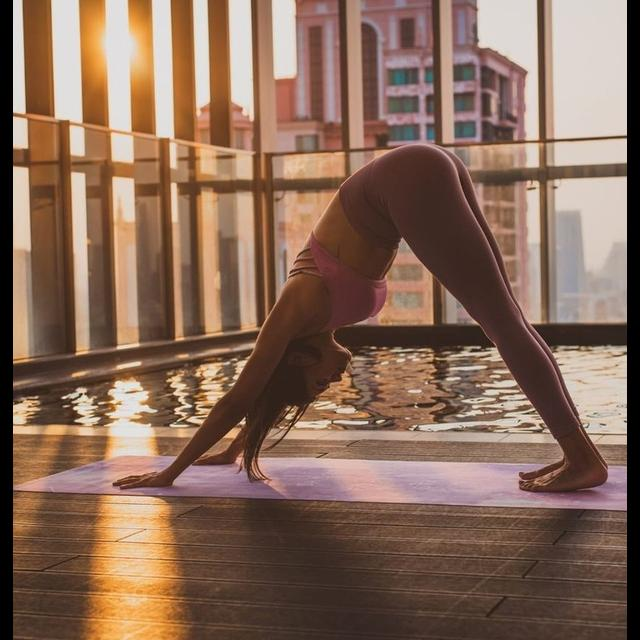Downward-Facing_Dog: (103, 132, 613, 501)
